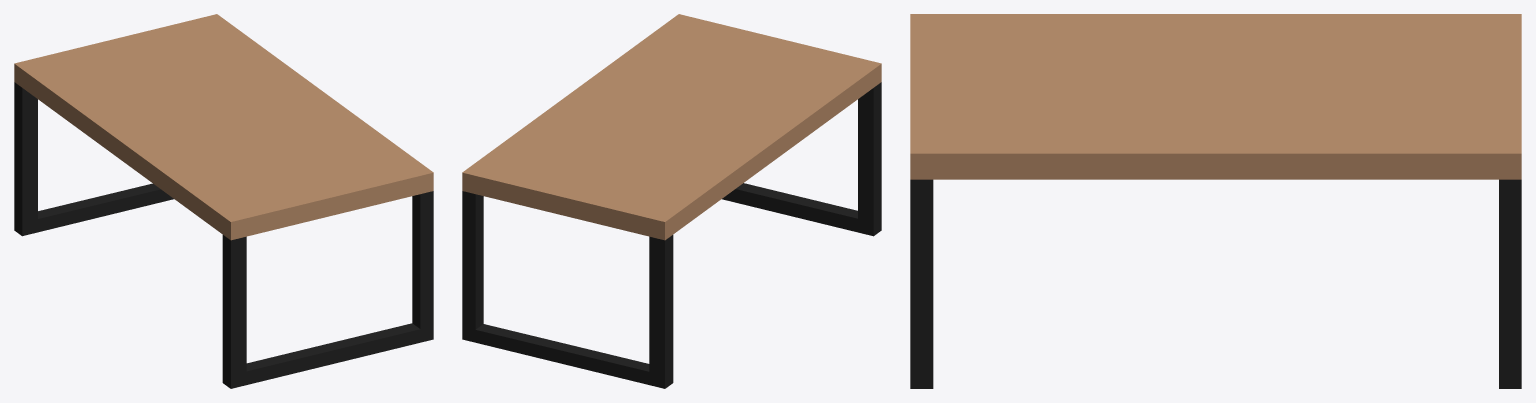
Rendered from table1.gltf.
The picture shows the model from 3 angles, left to right: view 1: azimuth 30°, elevation 25°; view 2: azimuth 150°, elevation 25°; view 3: azimuth 270°, elevation 25°; orthographic projection. The views are drawn at different scales.
Parts seen in each view (by area): view 1: Cube; view 2: Cube; view 3: Cube.
Boxes of the visible parts, bbox=[...] form: Cube: bbox=[14, 14, 433, 388]; Cube: bbox=[462, 14, 881, 388]; Cube: bbox=[910, 14, 1521, 388].
Size of the model in its own units: 1.08 by 0.8497 by 2.
1 material, 1 textured.
